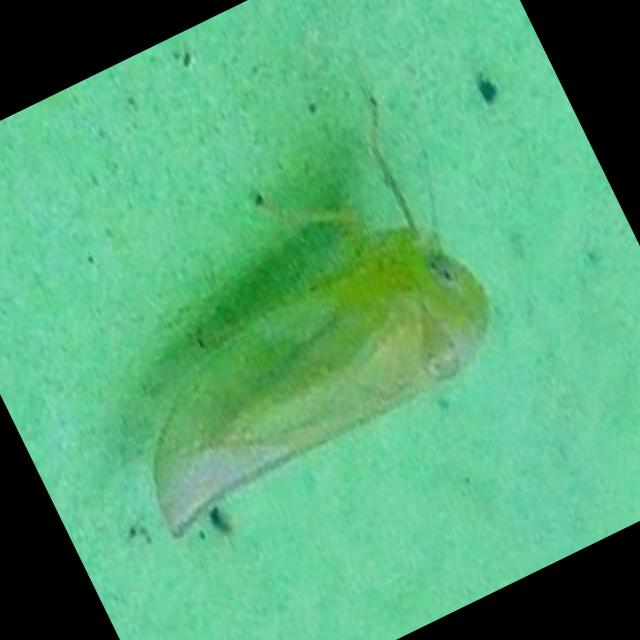green-leafhopper: (80, 192, 528, 550)
